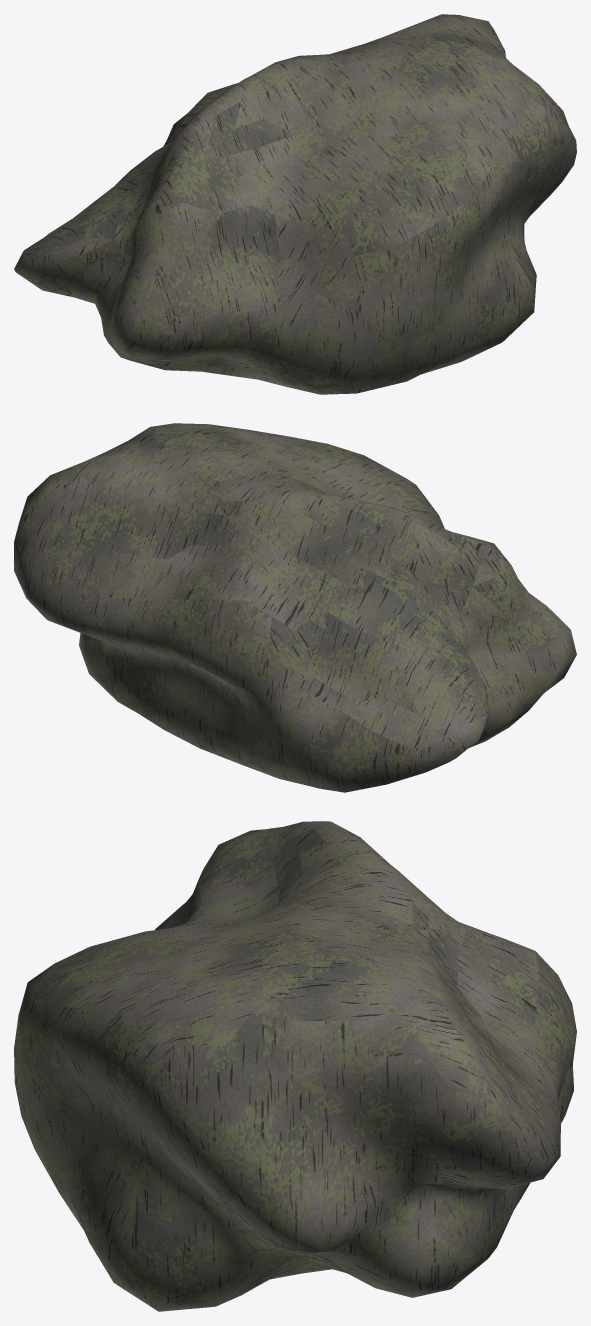
The model's file is rock_a.glb.
3 views of the same model, one above another, from view 1: azimuth 30°, elevation 25°; view 2: azimuth 150°, elevation 25°; view 3: azimuth 270°, elevation 25° (orthographic). The views are drawn at different scales.
Parts seen in each view (by area): view 1: Rock; view 2: Rock; view 3: Rock.
Boxes of the visible parts, x1,y1,x2,y2 form: Rock: (14,14,576,394); Rock: (14,423,576,792); Rock: (14,821,576,1311).
Size of the model in its own units: 2.04 by 1.01 by 1.48.
1 material, 1 textured.
